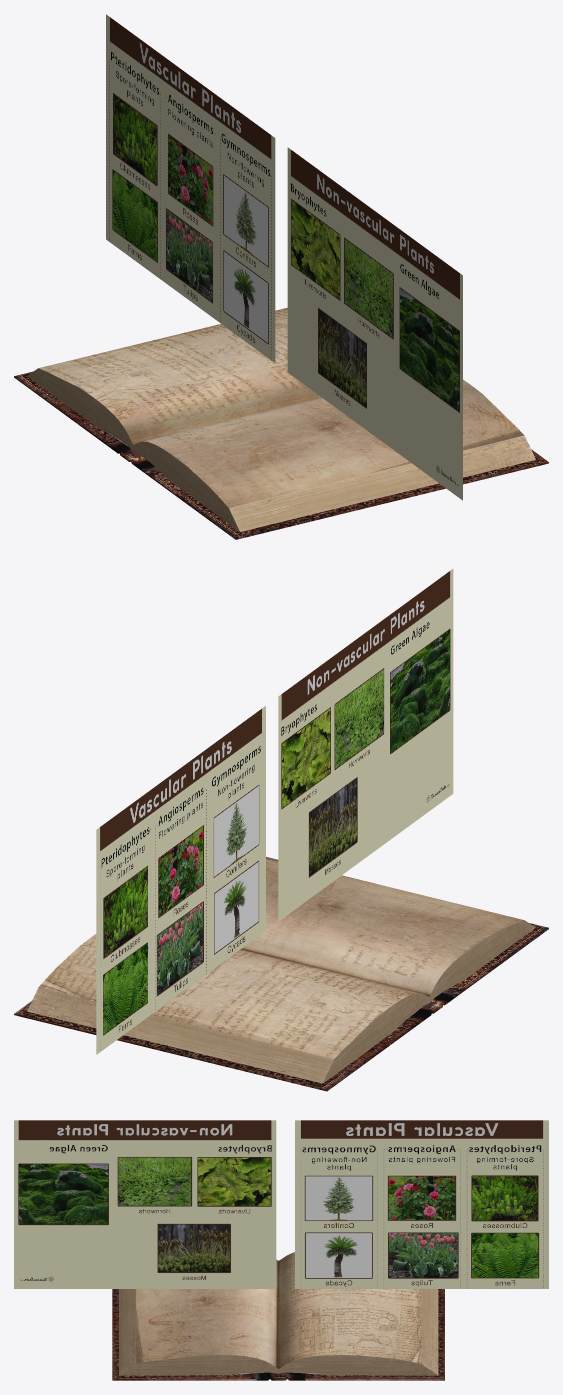
File: vascular.glb
The picture shows the model from 3 angles, top to bottom: view 1: azimuth 30°, elevation 25°; view 2: azimuth 150°, elevation 25°; view 3: azimuth 270°, elevation 25°; orthographic projection. The views are drawn at different scales.
Visible parts, largest first — view 1: polySurface23, Non-Vascular-Plants, Vascular-Plants, polySurface21; view 2: polySurface23, Non-Vascular-Plants, Vascular-Plants, polySurface21; view 3: Non-Vascular-Plants, Vascular-Plants, polySurface23, polySurface21.
Part boxes in pixels (<box>): polySurface23: <box>27,308,535,531</box>; Non-Vascular-Plants: <box>287,147,462,500</box>; Vascular-Plants: <box>106,14,275,362</box>; polySurface21: <box>14,371,548,539</box>; polySurface23: <box>27,857,535,1083</box>; Non-Vascular-Plants: <box>278,569,453,921</box>; Vascular-Plants: <box>96,706,265,1054</box>; polySurface21: <box>14,923,548,1091</box>; Non-Vascular-Plants: <box>14,1120,276,1288</box>; Vascular-Plants: <box>295,1120,548,1288</box>; polySurface23: <box>119,1252,438,1375</box>; polySurface21: <box>112,1289,444,1380</box>.
Size of the model in its own units: 2.57 by 2.14 by 5.07.
Materials: 7 (5 with a texture image).
